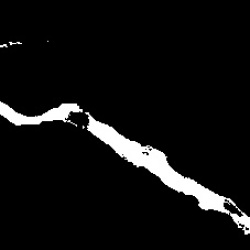crack: (88, 114, 234, 214), (0, 101, 84, 126), (232, 209, 249, 232), (5, 39, 26, 46)
